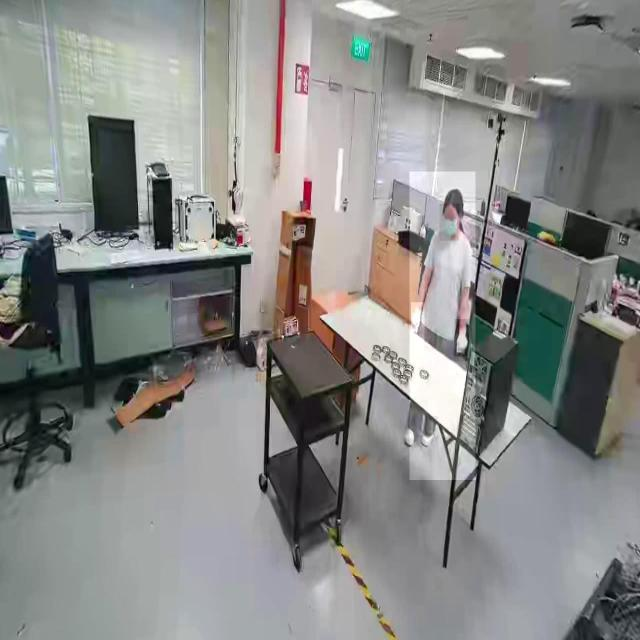face_mask: (440, 203, 460, 241)
hand_glove: (454, 319, 470, 357), (411, 303, 425, 342)
head_nohelmet: (443, 188, 463, 205)
person: (410, 171, 476, 481)
shoes: (420, 418, 440, 452), (401, 418, 420, 450)
